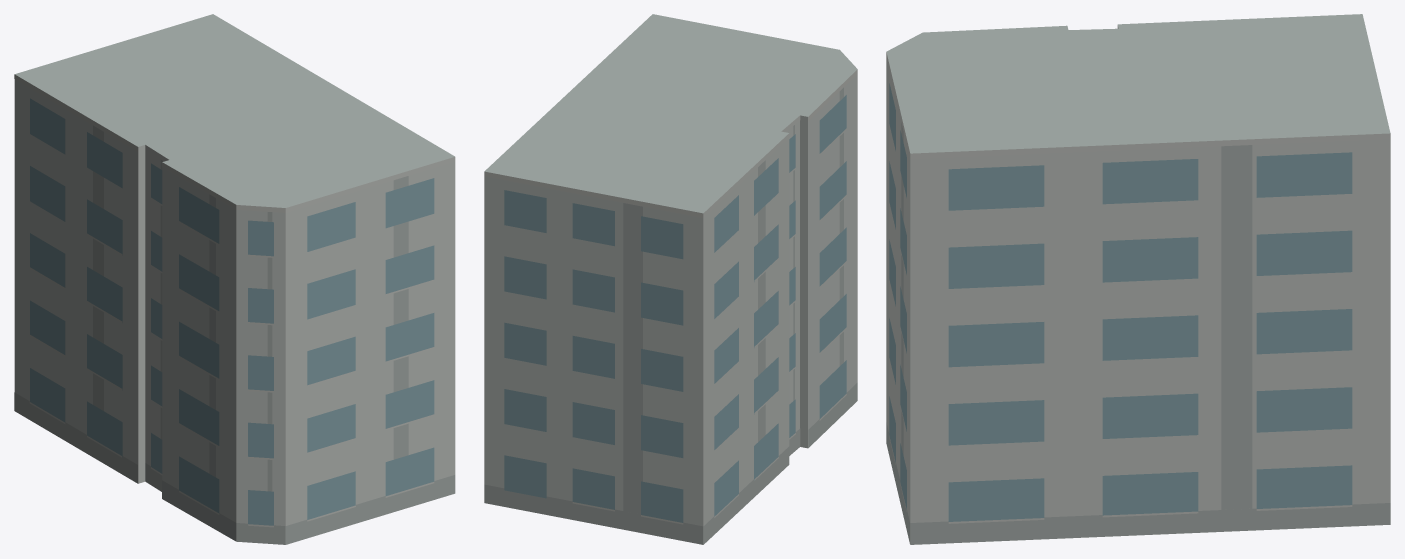
File: survey-upis-33038810.glb
3 renders of one model, left to right at view 1: azimuth 30°, elevation 25°; view 2: azimuth 150°, elevation 25°; view 3: azimuth 270°, elevation 25°, orthographic. The views are drawn at different scales.
Parts seen in each view (by area): view 1: survey-upis-33038810.tmp; view 2: survey-upis-33038810.tmp; view 3: survey-upis-33038810.tmp.
Boxes of the visible parts, <box> form: survey-upis-33038810.tmp: <box>14,14,455,544</box>; survey-upis-33038810.tmp: <box>484,14,857,544</box>; survey-upis-33038810.tmp: <box>886,14,1390,544</box>.
Size of the model in its own units: 12.68 by 16.57 by 19.36.
